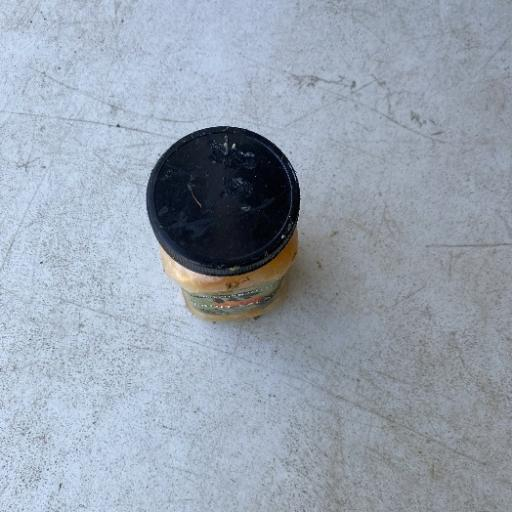Plastic: (144, 123, 302, 324)
